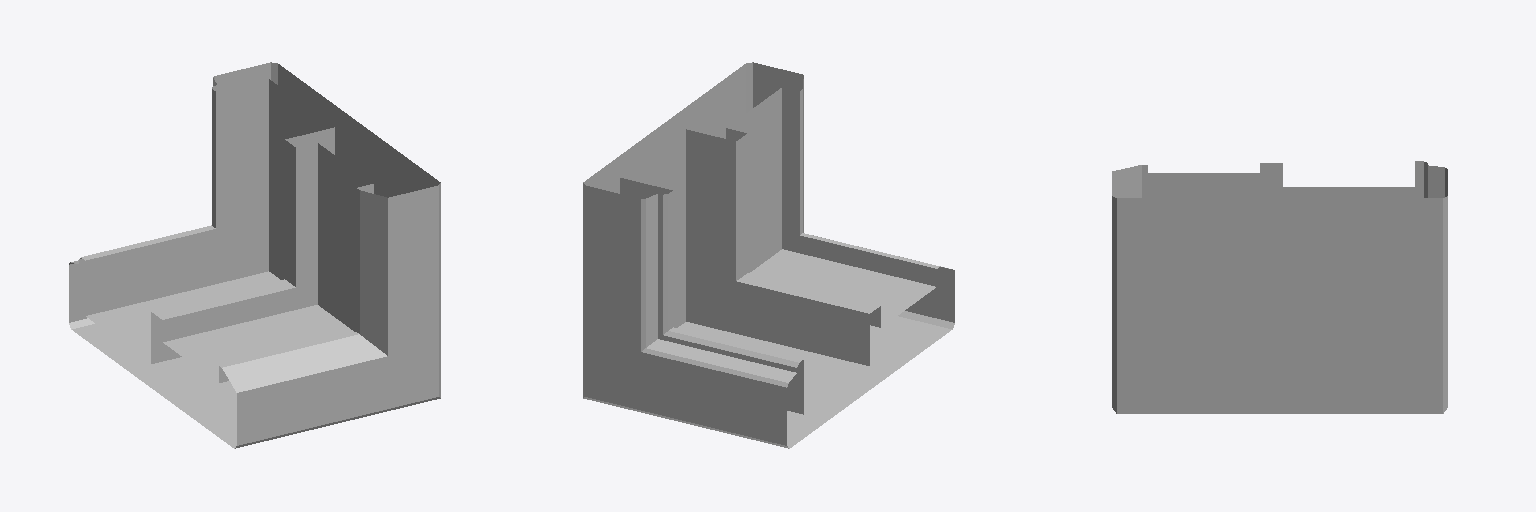
File: original-5.obj
3 renders of one model, left to right at view 1: azimuth 30°, elevation 25°; view 2: azimuth 150°, elevation 25°; view 3: azimuth 270°, elevation 25°, orthographic.
Parts seen in each view (by area): view 1: FRAME_BR1/FRAME_BR/mesh25/mesh25-geometry#mesh25-geometry; view 2: FRAME_BR1/FRAME_BR/mesh25/mesh25-geometry#mesh25-geometry; view 3: FRAME_BR1/FRAME_BR/mesh25/mesh25-geometry#mesh25-geometry.
Boxes of the visible parts, x1,y1,x2,y2 form: FRAME_BR1/FRAME_BR/mesh25/mesh25-geometry#mesh25-geometry: [69, 62, 440, 448]; FRAME_BR1/FRAME_BR/mesh25/mesh25-geometry#mesh25-geometry: [583, 62, 954, 448]; FRAME_BR1/FRAME_BR/mesh25/mesh25-geometry#mesh25-geometry: [1112, 161, 1447, 413].
Bounding box in the file's own units: 0.0978 × 0.0978 × 0.1378.